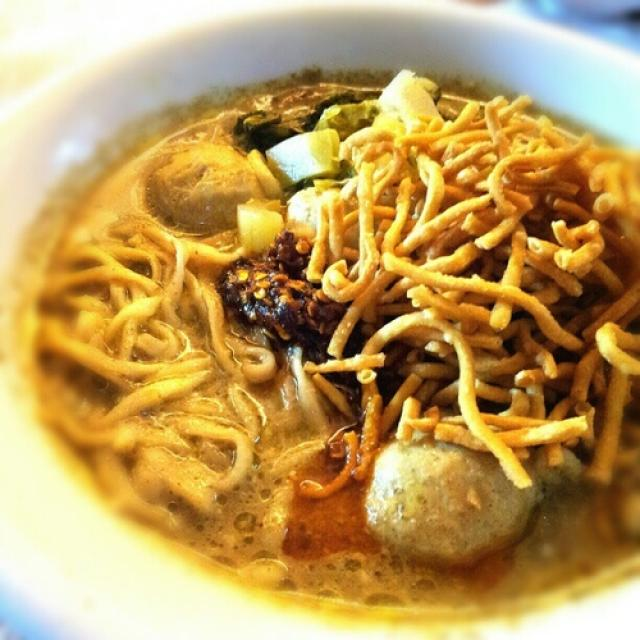面条主食: (41, 47, 621, 599)
